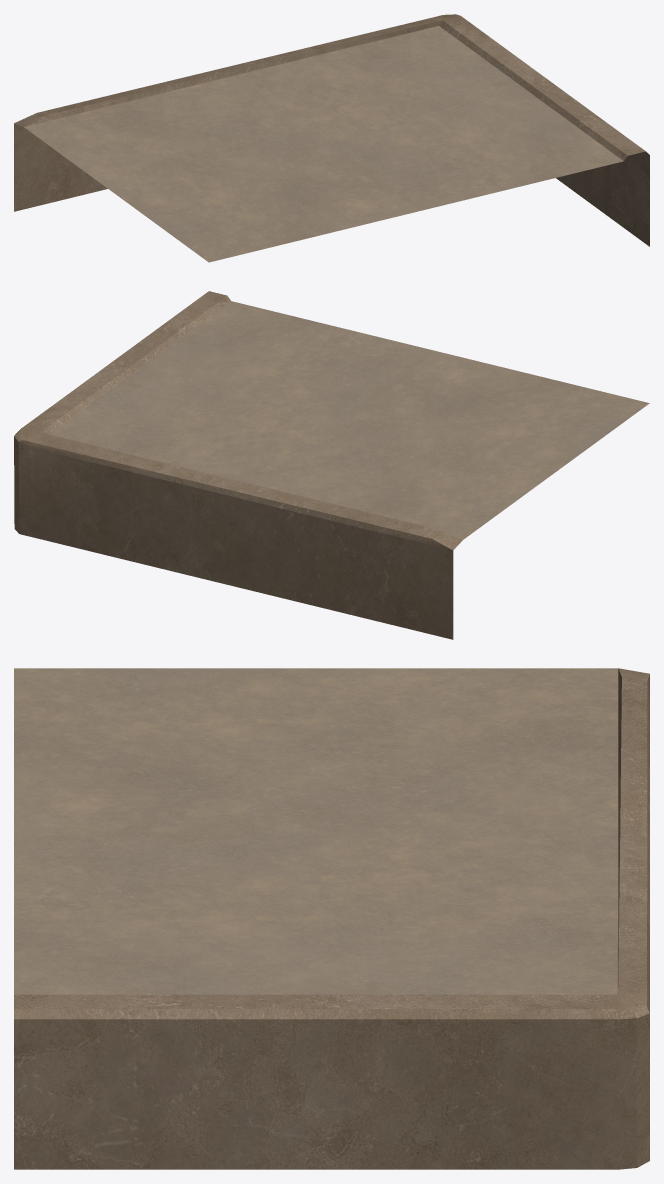
The model's file is Trottoir_1.2.fbx.
3 views of the same model, one above another, from view 1: azimuth 30°, elevation 25°; view 2: azimuth 150°, elevation 25°; view 3: azimuth 270°, elevation 25° (orthographic). The views are drawn at different scales.
Parts seen in each view (by area): view 1: Trottoir_1.2; view 2: Trottoir_1.2; view 3: Trottoir_1.2.
Part boxes in pixels (<box>): Trottoir_1.2: <box>14,14,649,262</box>; Trottoir_1.2: <box>14,291,649,639</box>; Trottoir_1.2: <box>14,668,649,1169</box>.
Bounding box in the file's own units: 1821 × 384 × 1394.
